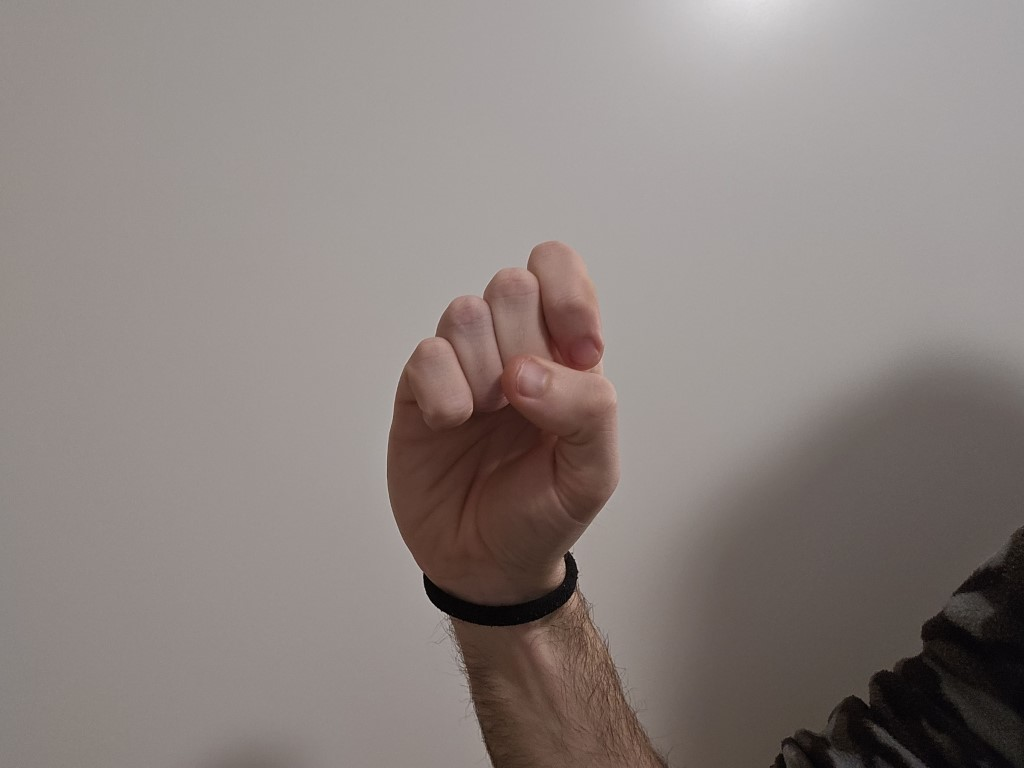s: (353, 227, 660, 587)
